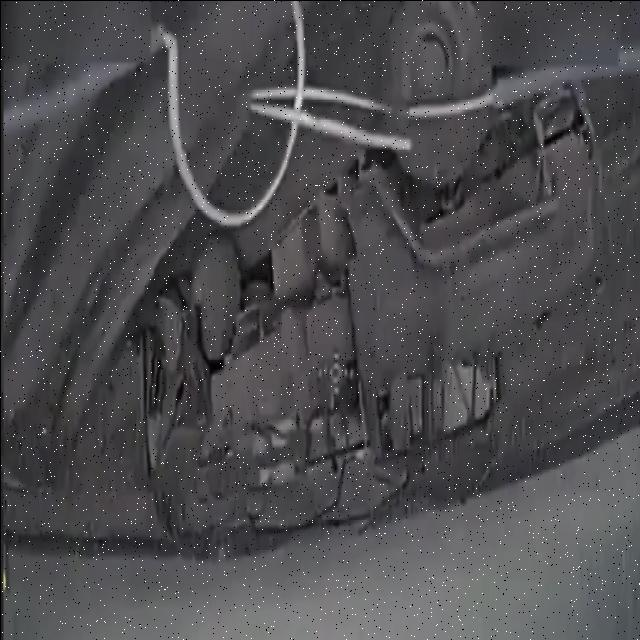TRUCK: (138, 6, 606, 562)
